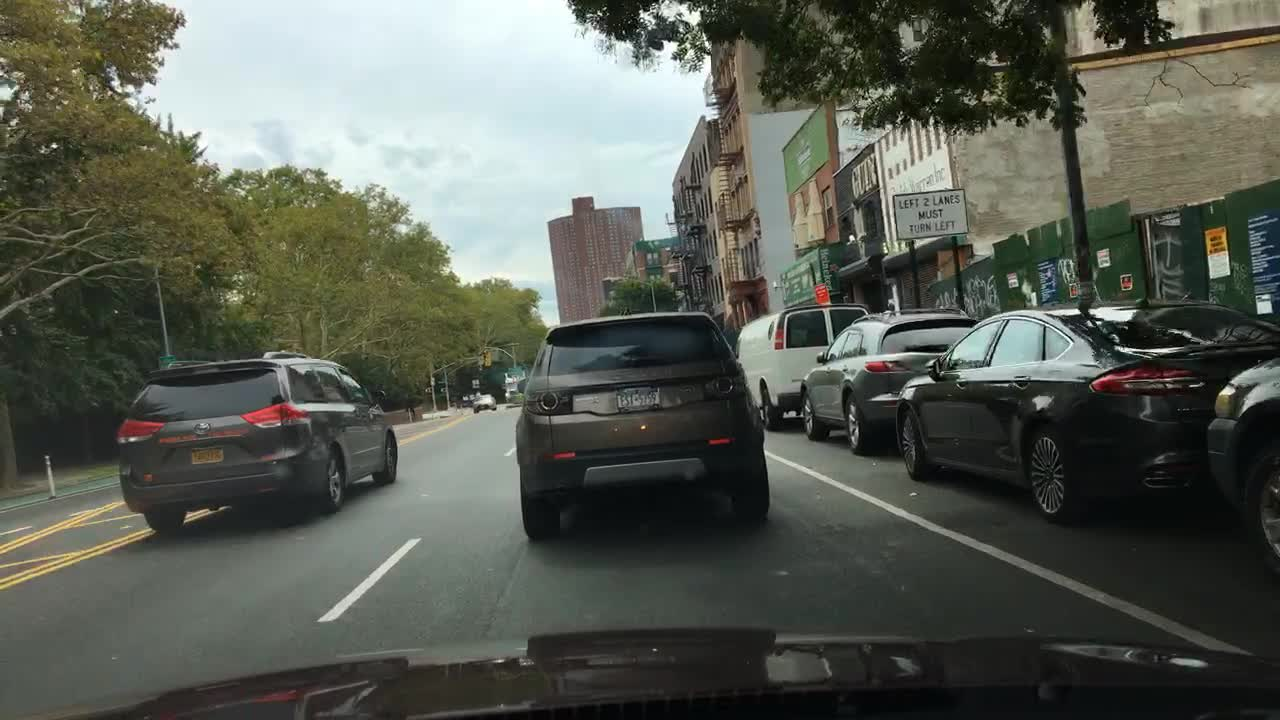car: (893, 305, 1275, 522), (512, 309, 773, 544), (114, 346, 397, 534), (798, 306, 1003, 455), (733, 291, 878, 431), (1200, 349, 1278, 568), (471, 391, 496, 413)
traffic light: (482, 349, 491, 365)
traffic sign: (890, 186, 970, 240), (158, 355, 175, 367)
